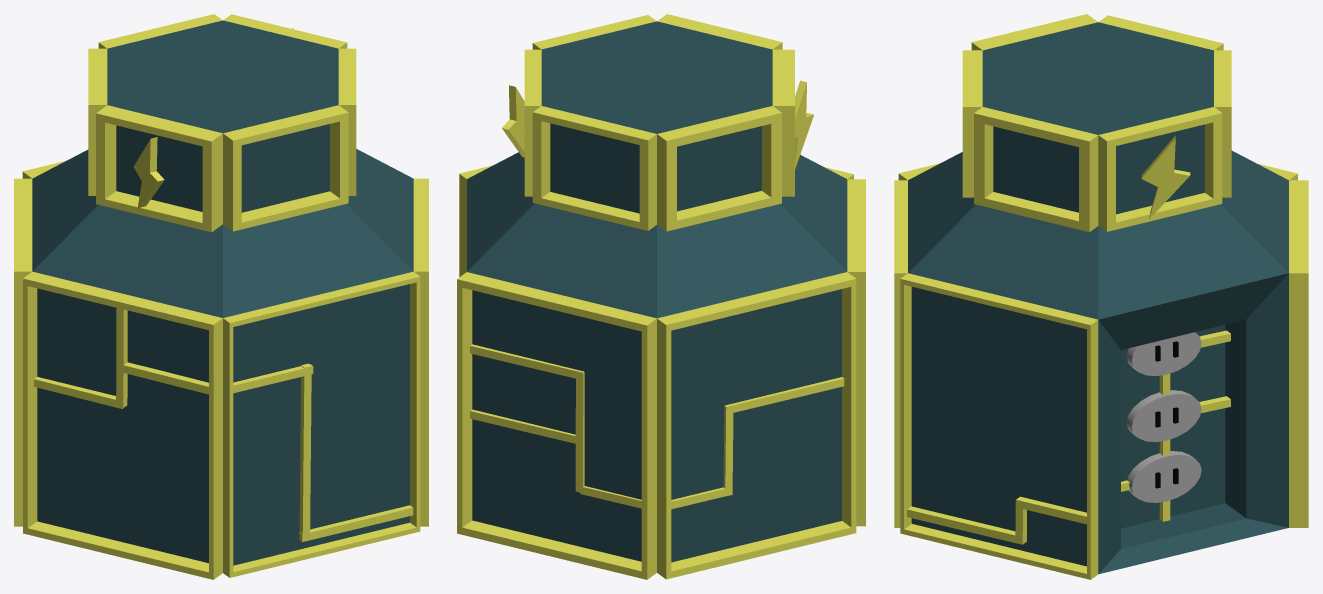
File: Housev4_Mid.fbx
The picture shows the model from 3 angles, left to right: view 1: azimuth 30°, elevation 25°; view 2: azimuth 150°, elevation 25°; view 3: azimuth 270°, elevation 25°; orthographic projection.
Parts seen in each view (by area): view 1: CharlesMidHouse, pCube14, pCube12, pCylinder3, pCube19, pCube20, pCube18, pCube13; view 2: CharlesMidHouse, pCube16, pCube22, pCube8, pCube6, pCylinder2, pCylinder3, pCube17, pCube7, pCube15; view 3: CharlesMidHouse, plugbase4, plugbase2, plugbase3, pCylinder2, pCube11, pCube9, pCube1.
Boxes of the visible parts, x1,y1,x2,y2 form: CharlesMidHouse: [14, 14, 428, 579]; pCube14: [299, 363, 311, 540]; pCube12: [299, 505, 413, 541]; pCylinder3: [133, 137, 164, 208]; pCube19: [116, 362, 208, 394]; pCube20: [116, 307, 127, 407]; pCube18: [34, 377, 122, 408]; pCube13: [233, 364, 313, 393]; CharlesMidHouse: [457, 14, 865, 579]; pCube16: [724, 377, 844, 413]; pCube22: [470, 409, 582, 443]; pCube8: [575, 372, 584, 492]; pCube6: [470, 344, 583, 378]; pCylinder2: [502, 85, 524, 157]; pCylinder3: [795, 80, 813, 169]; pCube17: [723, 406, 733, 496]; pCube7: [580, 486, 641, 508]; pCube15: [671, 487, 730, 509]; CharlesMidHouse: [894, 14, 1308, 579]; plugbase4: [1126, 390, 1201, 441]; plugbase2: [1127, 451, 1201, 502]; plugbase3: [1126, 332, 1201, 375]; pCylinder2: [1141, 135, 1190, 219]; pCube11: [907, 506, 1018, 543]; pCube9: [1016, 496, 1086, 524]; pCube1: [1159, 373, 1170, 521].
Size of the model in its own units: 11.59 by 10.98 by 10.23.
